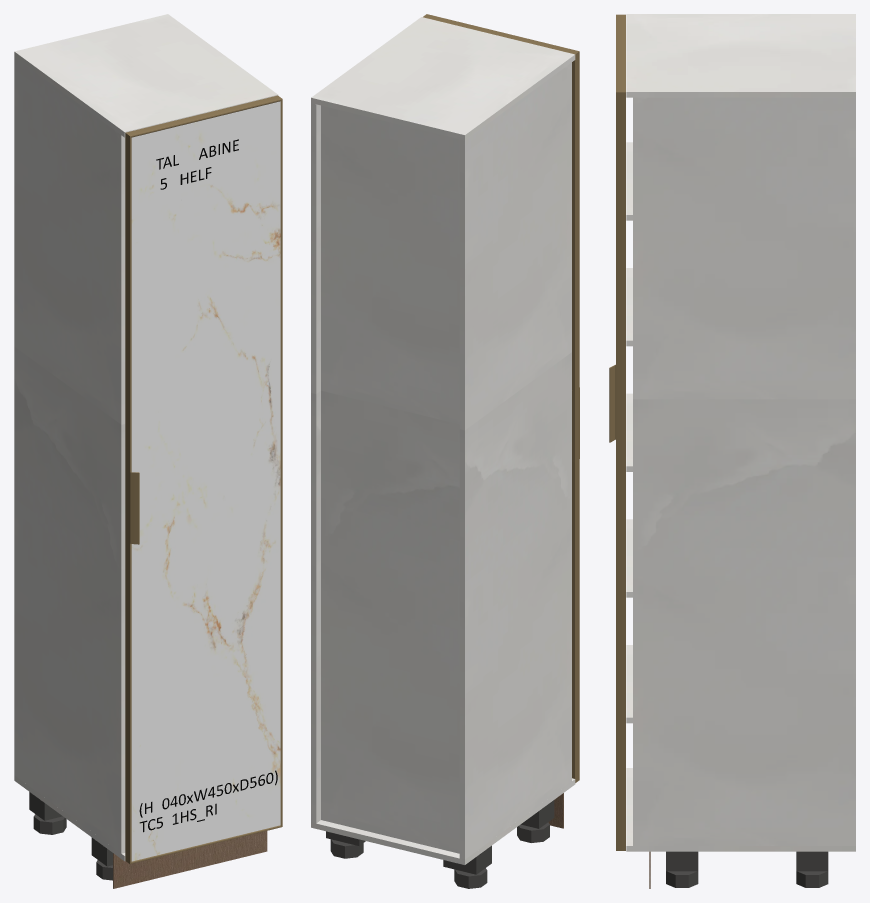
Rendered from TC-SH-TTS-ST-5SX-RHS-XXX-450-2040-560-15.glb.
The picture shows the model from 3 angles, left to right: view 1: azimuth 30°, elevation 25°; view 2: azimuth 150°, elevation 25°; view 3: azimuth 270°, elevation 25°; orthographic projection. The views are drawn at different scales.
Visible parts, largest first — view 1: Object_node_15, TP_node_0, TP, Extrusion_node_1, Object_node_17, Extrusion_node, Extrusion, 2D text_node_0, ExtrSplGeo, TP_node, 2D text; view 2: TP_node_7, TP_node_0, TP, TP_node_1, Extrusion_node_1, TP_node, Extrusion, Plate, Foot; view 3: TP_node_1, TP, Extrusion_node, TP_node, Extrusion, Plate_node, Plate_node_1, TP_node_2, TP_node_3, TP_node_4, TP_node_5, TP_node_6 (+3 smaller).
Boxes of the visible parts, <box> form: Object_node_15: <box>131,101,280,861</box>; TP_node_0: <box>14,57,125,853</box>; TP: <box>14,14,278,137</box>; Extrusion_node_1: <box>125,133,131,863</box>; Object_node_17: <box>113,831,267,888</box>; Extrusion_node: <box>280,99,282,826</box>; Extrusion: <box>125,95,282,137</box>; 2D text_node_0: <box>139,770,277,817</box>; ExtrSplGeo: <box>130,472,139,544</box>; TP_node: <box>14,775,125,861</box>; 2D text: <box>156,139,238,189</box>; TP_node_7: <box>321,105,459,853</box>; TP_node_0: <box>459,62,571,859</box>; TP: <box>311,17,575,140</box>; TP_node_1: <box>311,103,320,823</box>; Extrusion_node_1: <box>572,51,579,782</box>; TP_node: <box>311,778,575,864</box>; Extrusion: <box>423,14,578,54</box>; Plate: <box>443,845,491,874</box>; Foot: <box>454,868,487,888</box>; TP_node_1: <box>633,97,855,845</box>; TP: <box>626,14,855,97</box>; Extrusion_node: <box>616,92,625,850</box>; TP_node: <box>626,768,855,851</box>; Extrusion: <box>616,14,625,92</box>; Plate_node: <box>796,851,828,871</box>; Plate_node_1: <box>666,851,698,871</box>; TP_node_2: <box>626,645,632,723</box>; TP_node_3: <box>626,519,632,597</box>; TP_node_4: <box>626,393,632,471</box>; TP_node_5: <box>626,268,632,346</box>; TP_node_6: <box>626,142,632,220</box>.
Size of what is drawn, in the model's own units: 0.4505 by 2.14 by 0.6034.
Materials: 7 (3 with a texture image).
